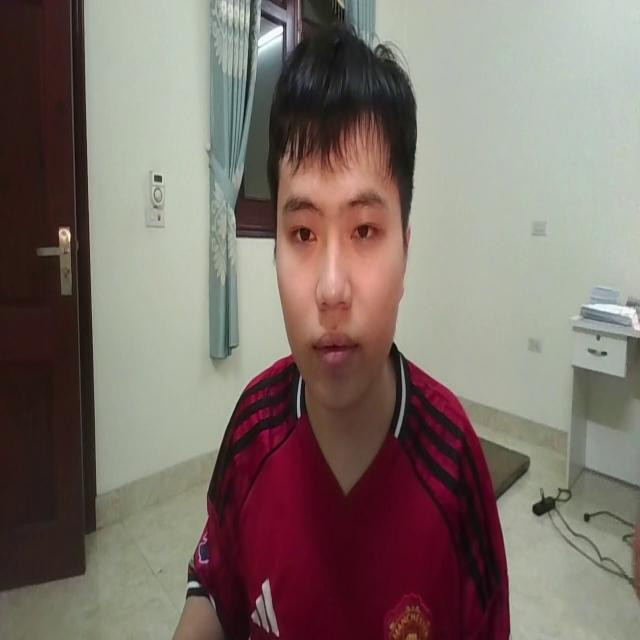student: (156, 19, 511, 640)
